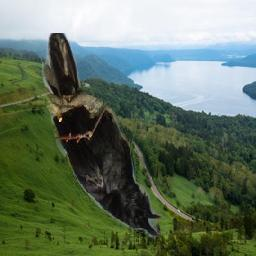Crow: (41, 34, 163, 241)
